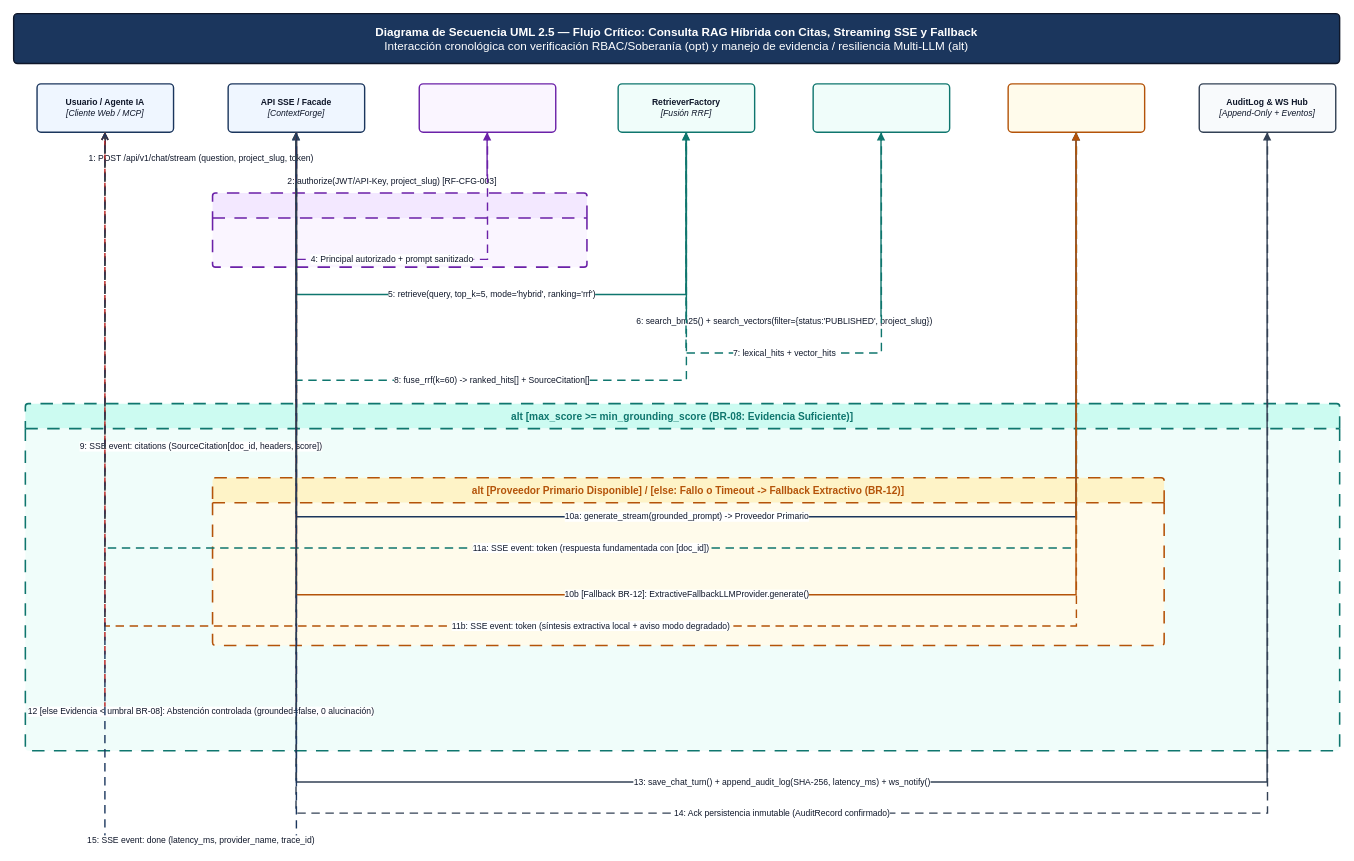
The diagram is 1354 pixels wide and 861 high, and some of its shapes have lost their labels. Each missing label, with the box of its shape:
Auth & SovereignGuard [RBAC + DLP]: (418, 83, 556, 133)
BM25 + ChromaDB [Índices PUBLISHED]: (812, 83, 950, 133)
ILLMProvider [Ollama / Cloud / Fallback]: (1007, 83, 1145, 133)
opt [Proyecto sovereign_only == true o DLP activo]: (211, 192, 587, 268)
